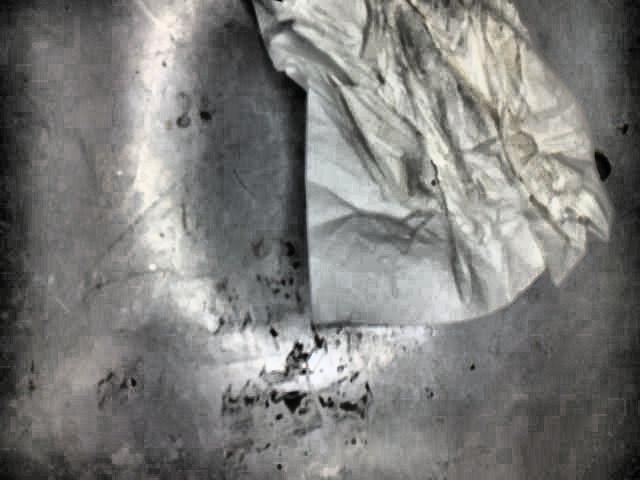Paper: (232, 0, 625, 345)
